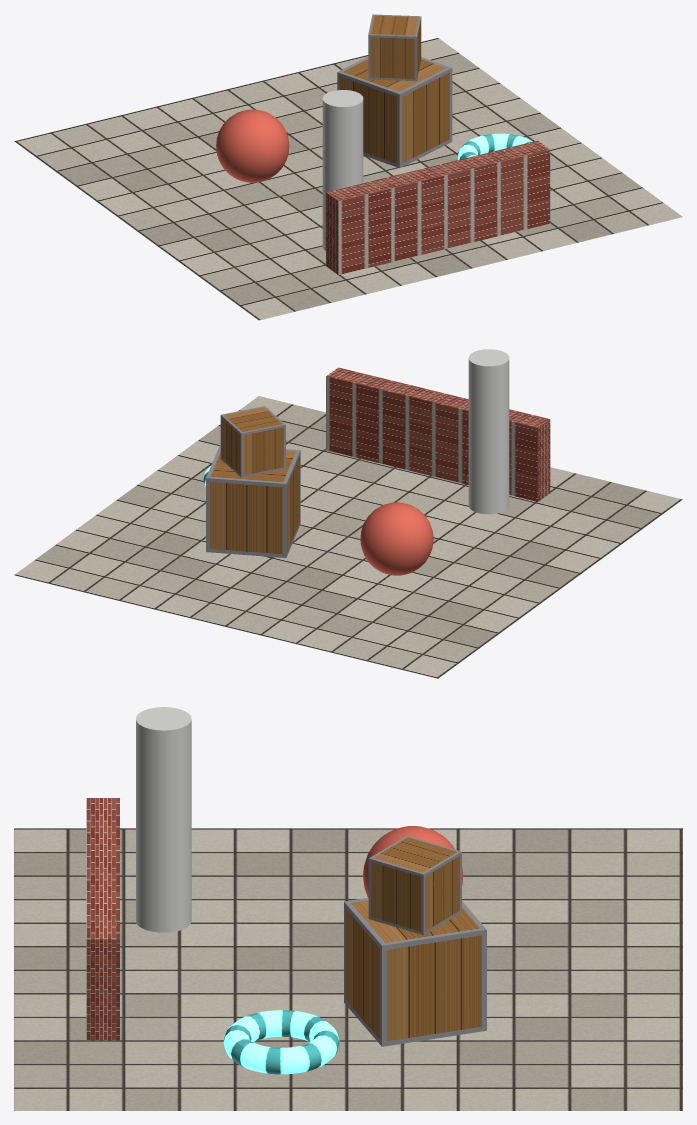
The picture shows the model from 3 angles, top to bottom: view 1: azimuth 30°, elevation 25°; view 2: azimuth 150°, elevation 25°; view 3: azimuth 270°, elevation 25°; orthographic projection. The views are drawn at different scales.
Visible parts, largest first — view 1: floor, wall, crate, pillar, sphere, small crate, ring; view 2: floor, wall, crate, pillar, sphere, small crate; view 3: floor, crate, pillar, wall, small crate, ring, sphere.
Part boxes in pixels (x1,y1,x2,y2): floor: (14, 38, 682, 320); wall: (326, 140, 550, 274); crate: (337, 57, 452, 168); pillar: (322, 90, 363, 250); sphere: (216, 109, 289, 182); small crate: (368, 14, 421, 81); ring: (457, 133, 532, 159); floor: (14, 396, 682, 678); wall: (326, 367, 550, 501); crate: (206, 444, 300, 557); pillar: (468, 349, 509, 514); sphere: (360, 502, 433, 575); small crate: (220, 406, 285, 477); floor: (14, 828, 682, 1110); crate: (344, 898, 486, 1046); pillar: (136, 707, 191, 932); wall: (86, 798, 119, 1040); small crate: (368, 835, 461, 935); ring: (223, 1010, 339, 1074); sphere: (363, 826, 463, 897).
Size of the model in its own units: 6 by 2 by 6.
Materials: 6 (3 with a texture image).
